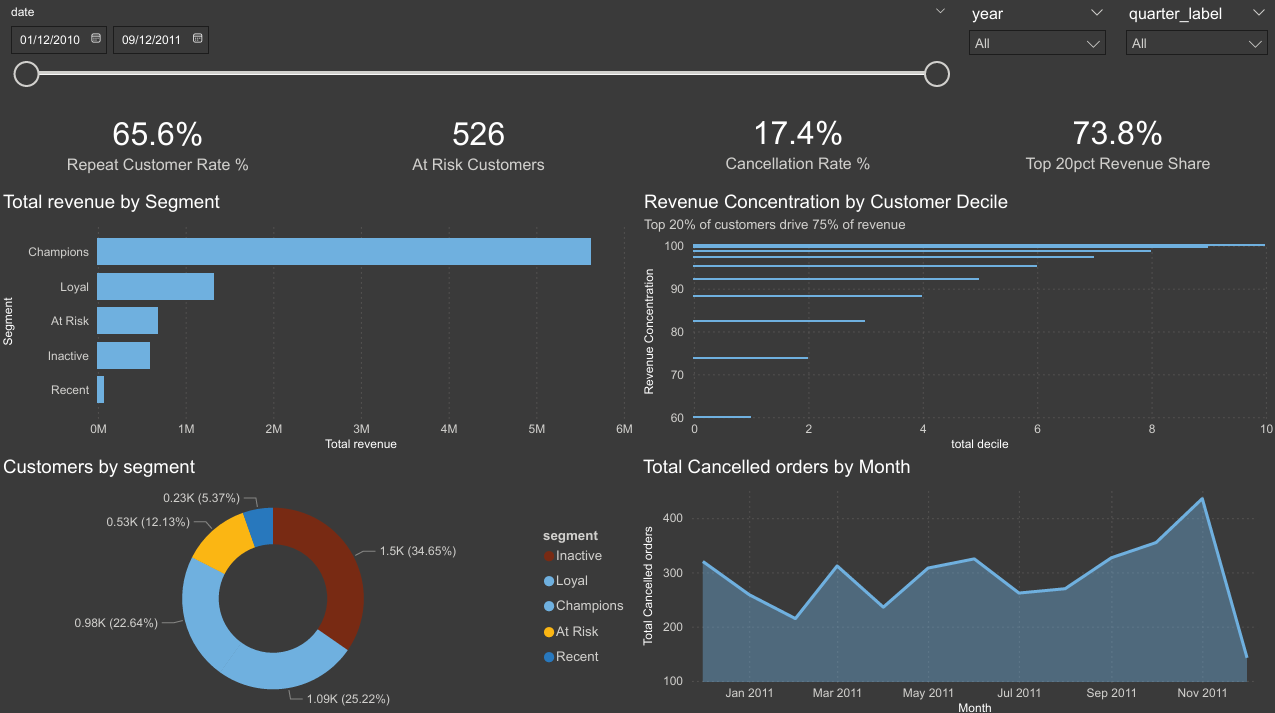

The page's visual inventory and layout, read from the dashboard file:
{"tool":"powerbi","page":{"name":"Customer Analysis","canvas":[1280,720],"ordinal":2},"visuals":[{"type":"card","title":"Repeat Customer Rate%","fields":{"Values":["online_retail vw_dim_product.Repeat Customer Rate %"]},"box":[0,113.8,320,96.3],"z":0},{"type":"card","title":"At Risk Customers","fields":{"Values":["online_retail vw_dim_product.At Risk Customers"]},"box":[320,113.8,320,96.3],"z":1000},{"type":"card","title":"Cancellation Rate %","fields":{"Values":["online_retail vw_dim_product.Cancellation Rate %"]},"box":[640,113.8,320,96.3],"z":2000},{"type":"card","title":"Top 20% Revenue Share","fields":{"Values":["online_retail vw_dim_product.Top 20pct Revenue Share"]},"box":[955.1,113.8,324.9,96.3],"z":3000},{"type":"clusteredBarChart","title":"Total Revenue by rfm segment","fields":{"Category":["online_retail vw_dim_customer.rfm_segment"],"Y":["online_retail vw_dim_product.Total Revenue"]},"box":[0,210.1,640,248],"z":4000},{"type":"lineChart","title":"Cumulative Revenue % by revenue decile","fields":{"Category":["online_retail vw_dim_customer.revenue_decile"],"Y":["online_retail vw_dim_product.Cumulative Revenue %"]},"box":[640.5,210.4,639.5,247.7],"z":5000},{"type":"donutChart","title":"Count of customer_id by rfm segment","fields":{"Category":["online_retail vw_dim_customer.rfm_segment"],"Y":["CountNonNull(online_retail vw_dim_customer.customer_id)"]},"box":[0,458.1,640,261.6],"z":6000},{"type":"clusteredColumnChart","fields":{"Category":["online_retail dim_date.year_month.Variation.Date Hierarchy.Month","online_retail dim_date.year_month.Variation.Date Hierarchy.Day","online_retail vw_fact_orders.is_cancellation"],"Y":["online_retail vw_dim_product.Total Cancelled Value"]},"box":[640.5,458.1,639.5,261.2],"z":7000},{"type":"slicer","fields":{"Values":["online_retail dim_date.date"]},"box":[0,0,1008.6,113.8],"z":8000},{"type":"slicer","fields":{"Values":["online_retail dim_date.quarter"]},"box":[1008.6,0,137.1,113.8],"z":9000},{"type":"slicer","fields":{"Values":["online_retail dim_date.year"]},"box":[1145.8,0,134.2,113.8],"z":10000}]}

Visuals, with their boxes in screenshot pixels (x1, y1, x2, y2), scaled from the page's 1280x720 canvas onto the 1275x713 screenshot:
"Repeat Customer Rate%" card: {"left": 0, "top": 113, "right": 319, "bottom": 208}
"At Risk Customers" card: {"left": 319, "top": 113, "right": 638, "bottom": 208}
"Cancellation Rate %" card: {"left": 638, "top": 113, "right": 956, "bottom": 208}
"Top 20% Revenue Share" card: {"left": 951, "top": 113, "right": 1274, "bottom": 208}
"Total Revenue by rfm segment" clusteredBarChart: {"left": 0, "top": 208, "right": 638, "bottom": 454}
"Cumulative Revenue % by revenue decile" lineChart: {"left": 638, "top": 208, "right": 1274, "bottom": 454}
"Count of customer_id by rfm segment" donutChart: {"left": 0, "top": 454, "right": 638, "bottom": 712}
clusteredColumnChart - online_retail dim_date.year_month.Variation.Date Hierarchy.Month x online_retail dim_date.year_month.Variation.Date Hierarchy.Day: {"left": 638, "top": 454, "right": 1274, "bottom": 712}
slicer - online_retail dim_date.date: {"left": 0, "top": 0, "right": 1005, "bottom": 113}
slicer - online_retail dim_date.quarter: {"left": 1005, "top": 0, "right": 1141, "bottom": 113}
slicer - online_retail dim_date.year: {"left": 1141, "top": 0, "right": 1274, "bottom": 113}
